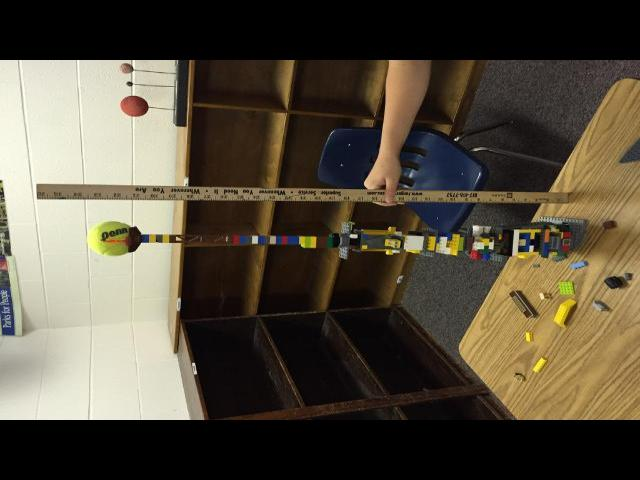tennis-ball: (89, 221, 130, 255)
